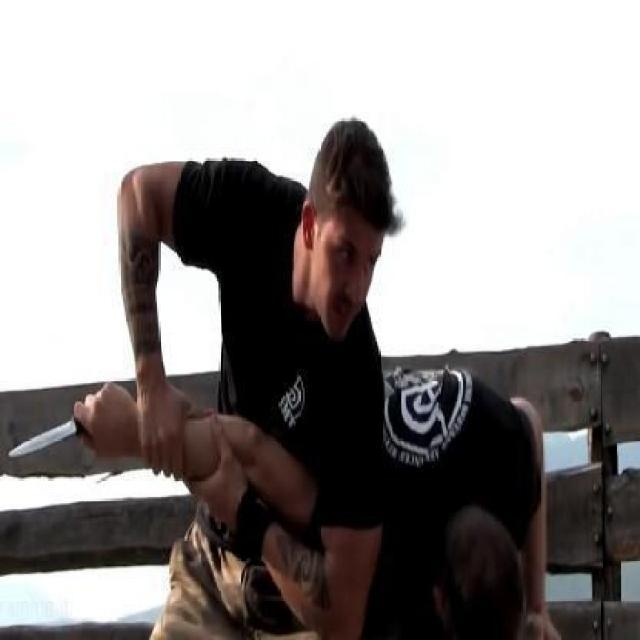-: (1, 377, 117, 468)
